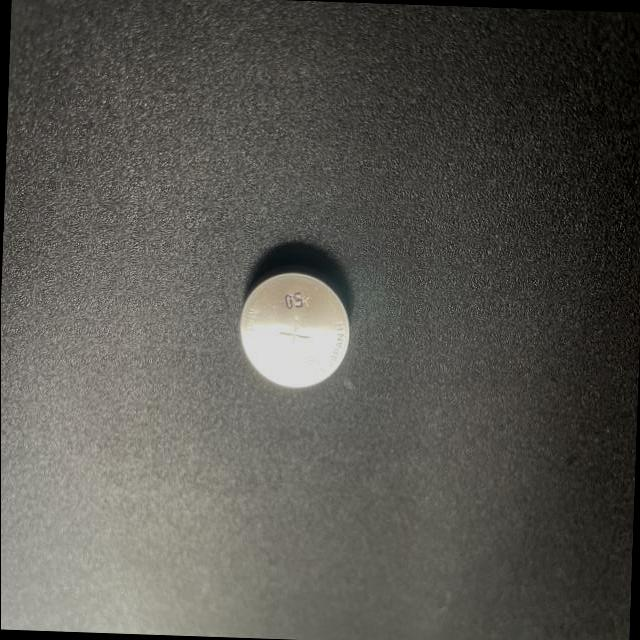COIN: (235, 263, 355, 391)
